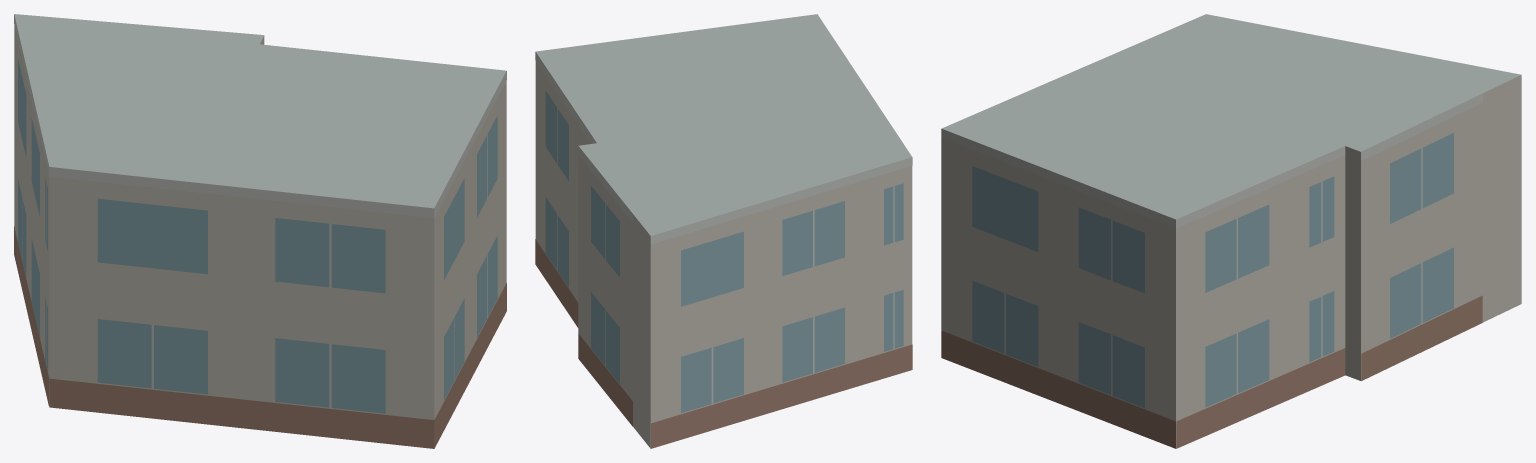
File: survey-upis-32663545.glb
3 renders of one model, left to right at view 1: azimuth 30°, elevation 25°; view 2: azimuth 150°, elevation 25°; view 3: azimuth 270°, elevation 25°, orthographic. The views are drawn at different scales.
Parts seen in each view (by area): view 1: survey-upis-32663545.tmp; view 2: survey-upis-32663545.tmp; view 3: survey-upis-32663545.tmp.
Part boxes in pixels (x1,y1,x2,y2): survey-upis-32663545.tmp: (14, 14, 506, 448); survey-upis-32663545.tmp: (535, 14, 912, 448); survey-upis-32663545.tmp: (941, 14, 1521, 448).
Size of the model in its own units: 11.73 by 6.1 by 13.99.
